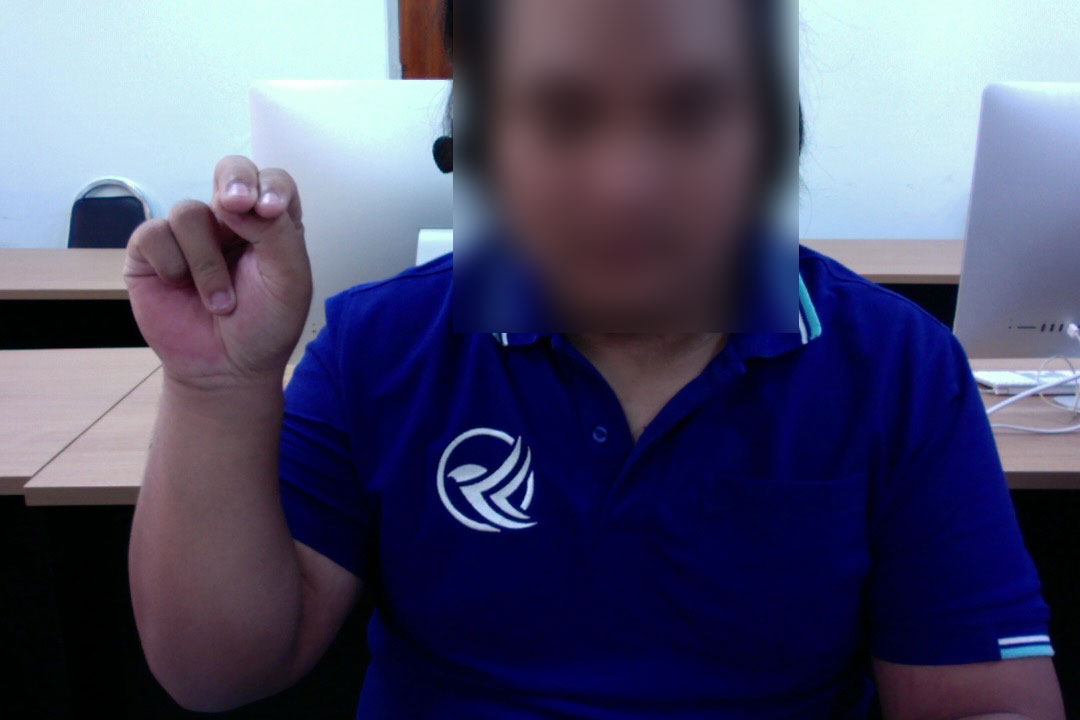nor: (118, 144, 314, 406)
